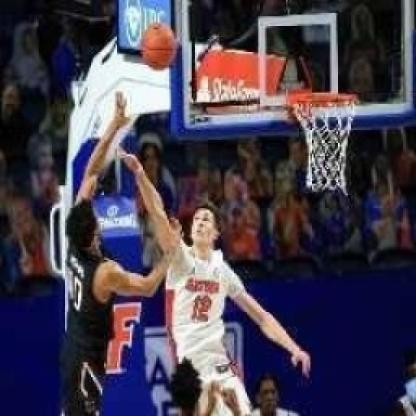basketball: (140, 19, 177, 71)
